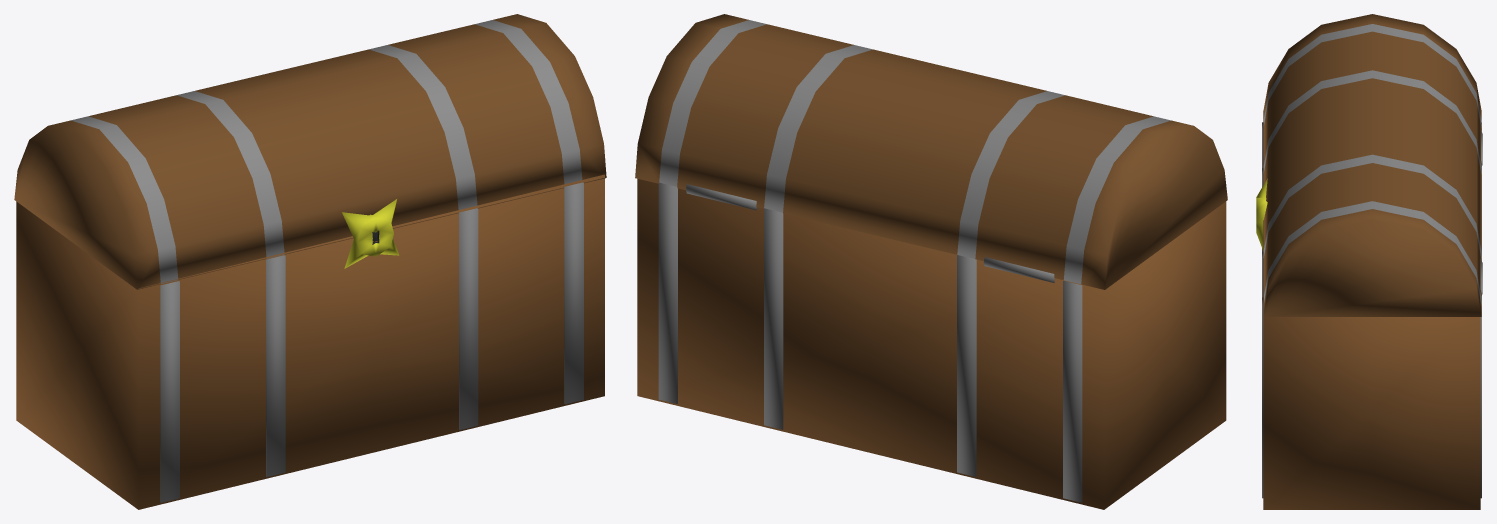
File: Chest.fbx
3 renders of one model, left to right at view 1: azimuth 30°, elevation 25°; view 2: azimuth 150°, elevation 25°; view 3: azimuth 270°, elevation 25°, orthographic. The views are drawn at different scales.
Parts seen in each view (by area): view 1: Chest, Lid; view 2: Chest, Lid; view 3: Lid, Chest.
Boxes of the visible parts, bbox=[...] form: Chest: bbox=[16, 174, 604, 509]; Lid: bbox=[14, 14, 606, 289]; Chest: bbox=[637, 178, 1226, 509]; Lid: bbox=[635, 14, 1227, 289]; Lid: bbox=[1256, 14, 1482, 316]; Chest: bbox=[1262, 111, 1481, 509].
Size of the model in its own units: 445 by 298 by 209.
